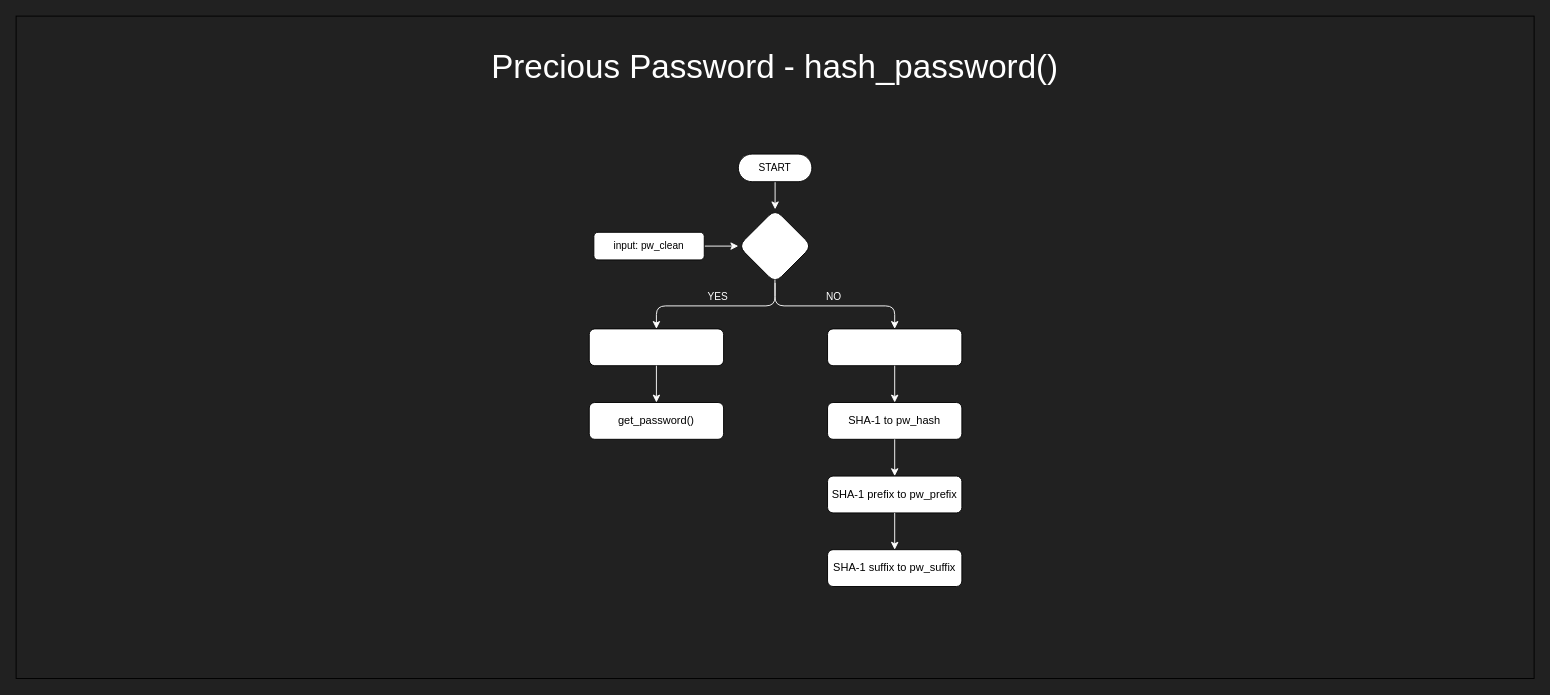
This 1550x695 diagram has some shape labels left out. The shapes that lost their labels are listed below. From the top down, each one's centre as x and y in pixels, then its label:
At point 774,245: "pw_clean empty?".
At point 656,347: "notify user".
At point 894,347: "hash pw_clean".
